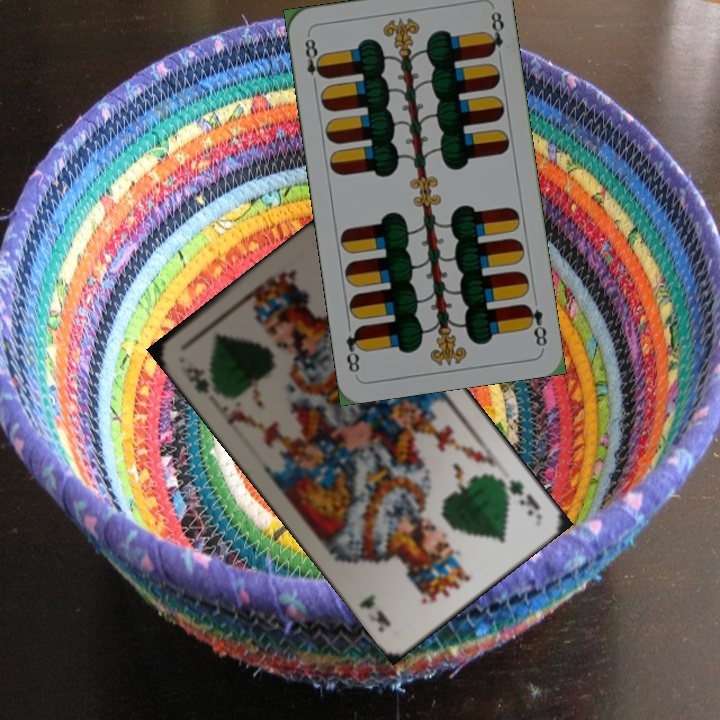E8: (300, 34, 327, 90), (520, 300, 550, 349)
GK: (494, 474, 543, 519), (177, 363, 212, 396)
